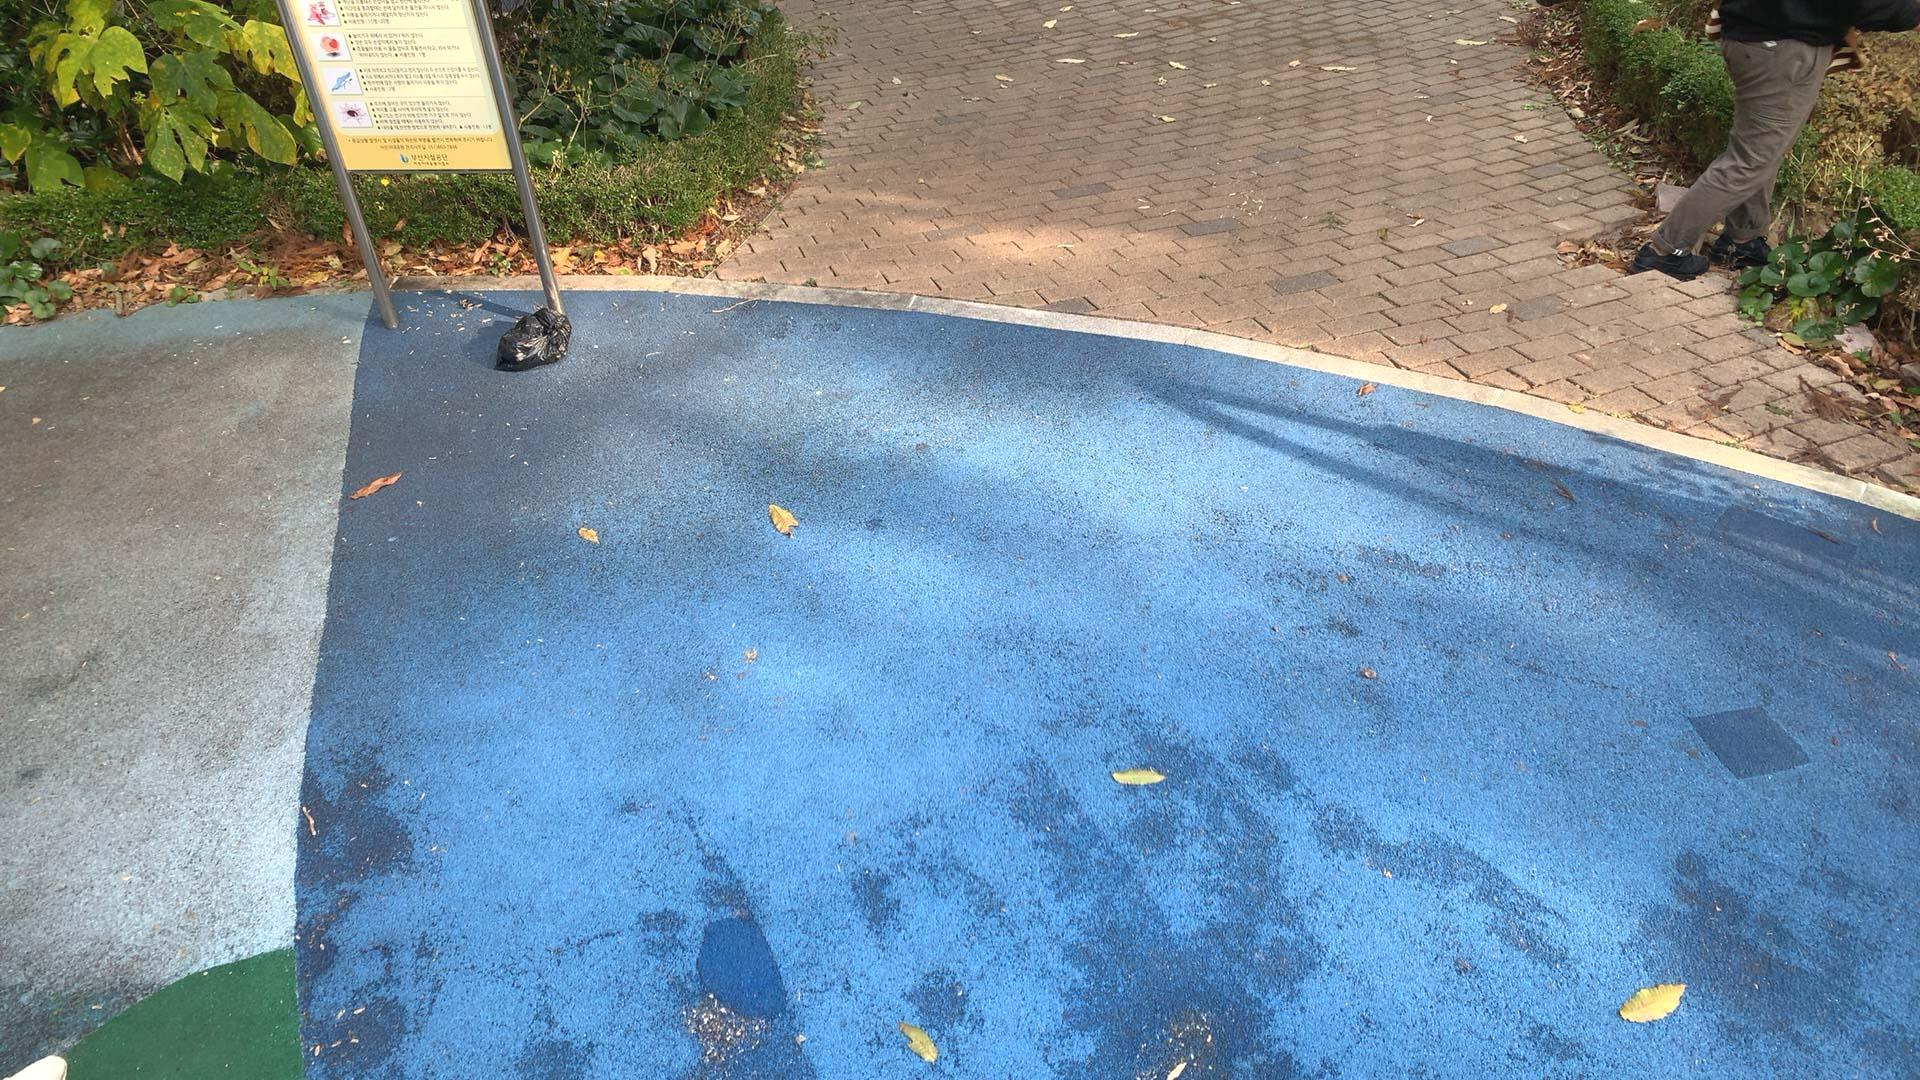black_bag: (487, 301, 579, 375)
